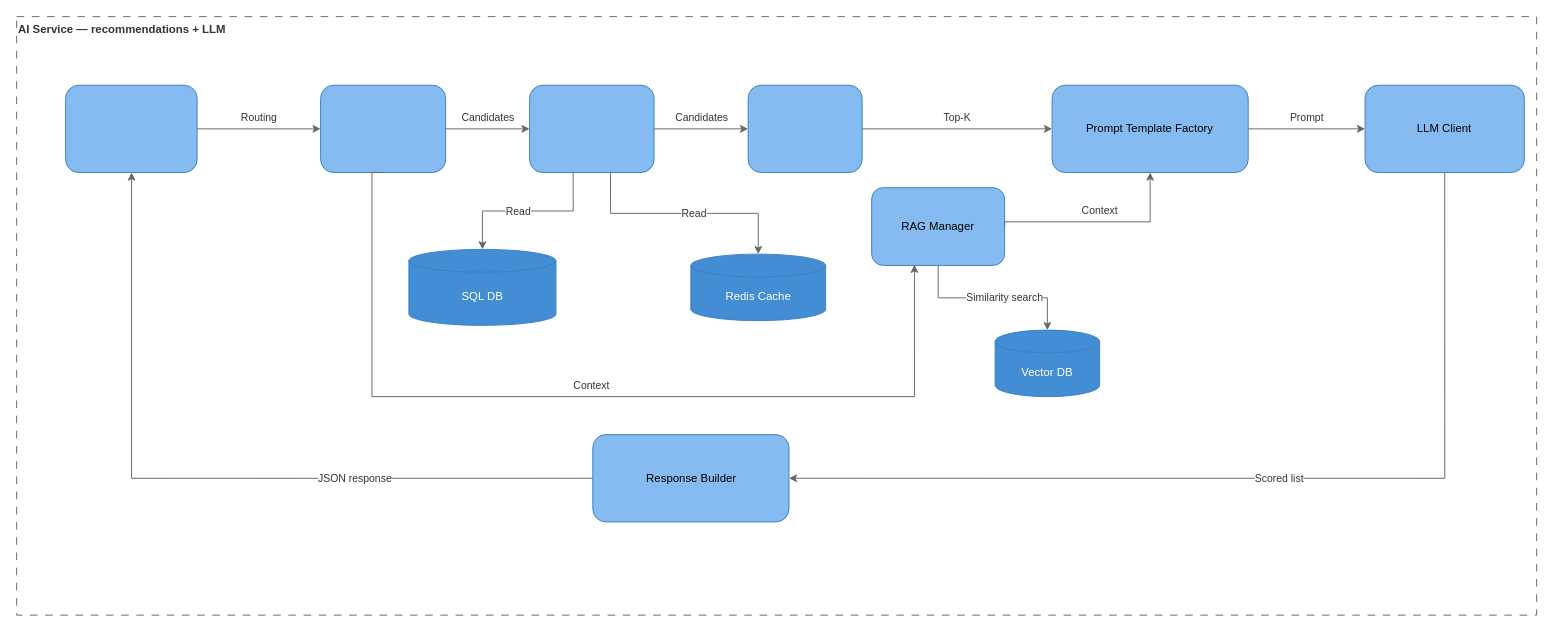
The diagram is 1553 pixels wide and 632 high, and some of its shapes have lost their labels. The shapes that lost their labels are listed below. From the top down, each one's centre as x and y in pixels, then its label:
At (x=131, y=128): "Recommendation Controller REST API".
At (x=383, y=128): "Scenario Router".
At (x=591, y=128): "Candidate Loader".
At (x=804, y=128): "Ranker ML pre-score".
